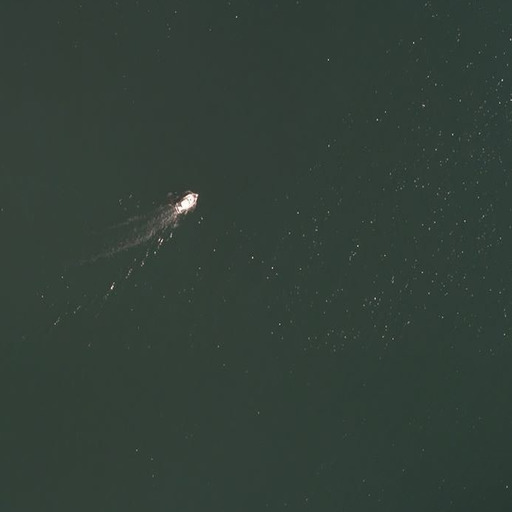ship: (170, 189, 201, 220)
